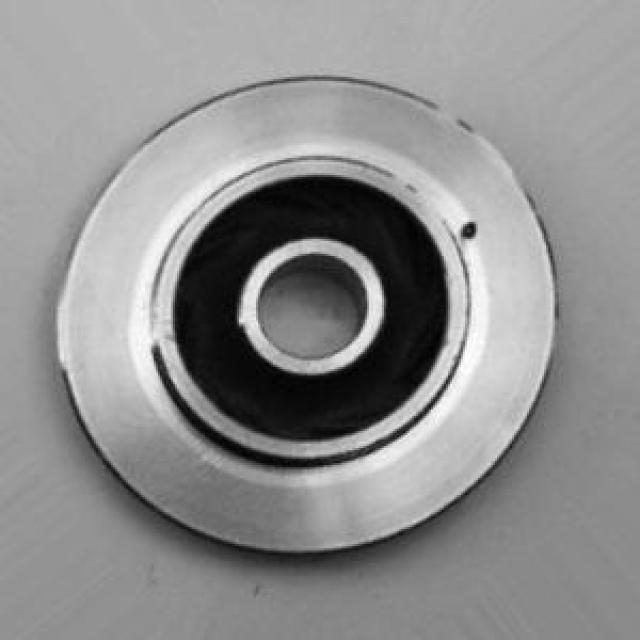Defect: (453, 218, 489, 247)
